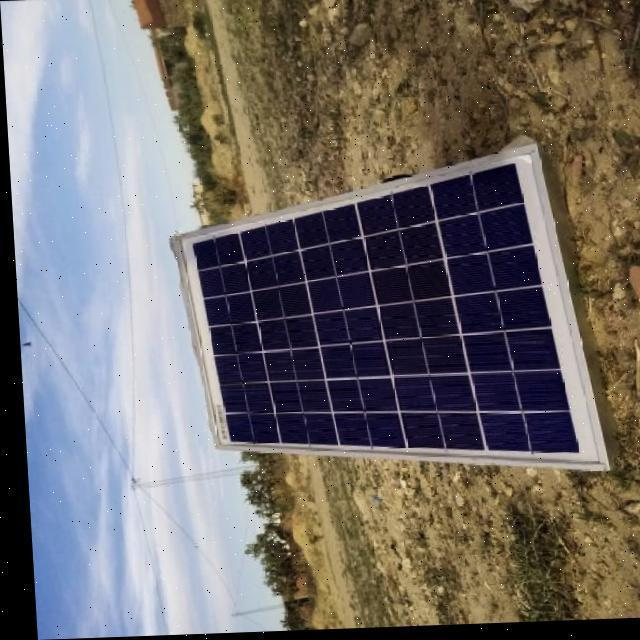Normal Solar Panel: (169, 150, 594, 486)
